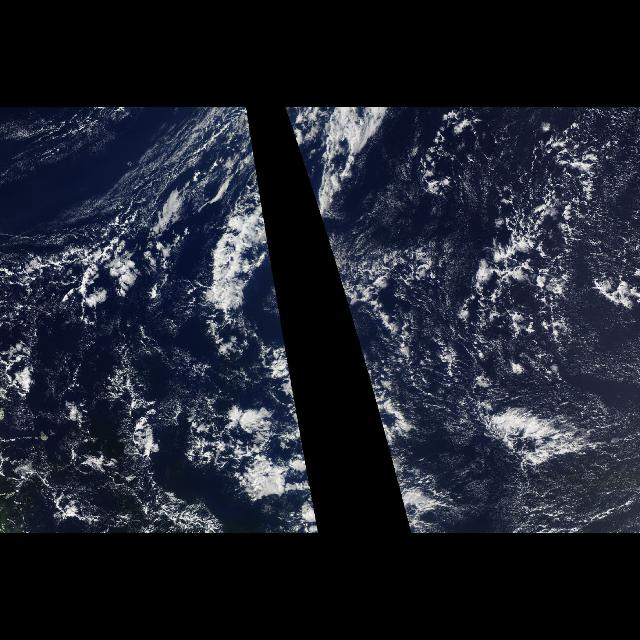Fish: (189, 126, 317, 508), (290, 126, 330, 250)
Gravel: (4, 336, 222, 532), (495, 123, 601, 337)
Sugar: (470, 348, 632, 530)
